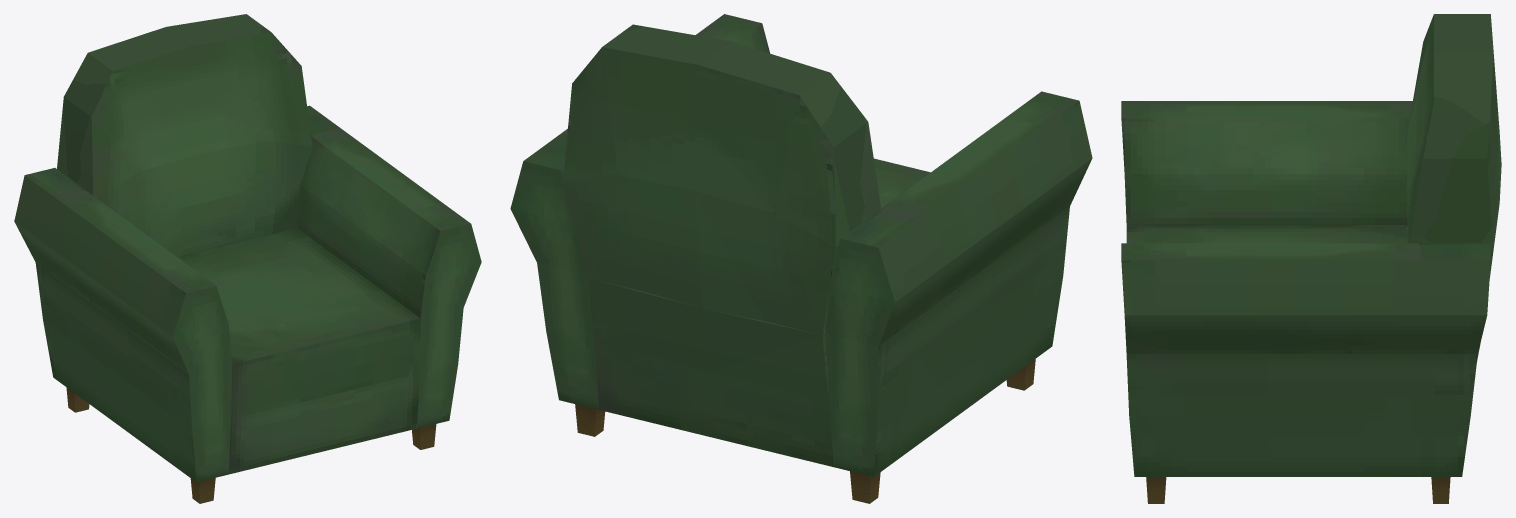
The model's file is u_kreslo.glb.
3 views of the same model, side by side, from view 1: azimuth 30°, elevation 25°; view 2: azimuth 150°, elevation 25°; view 3: azimuth 270°, elevation 25° (orthographic). The views are drawn at different scales.
Visible parts, largest first — view 1: Armchair_M_Armchair_0; view 2: Armchair_M_Armchair_0; view 3: Armchair_M_Armchair_0.
Boxes of the visible parts, x1=… form: Armchair_M_Armchair_0: x1=14, y1=14, x2=481, y2=503; Armchair_M_Armchair_0: x1=510, y1=14, x2=1092, y2=503; Armchair_M_Armchair_0: x1=1121, y1=14, x2=1501, y2=503.
Bounding box in the file's own units: 1.15 × 1.2 × 1.07.
1 material, 1 textured.
